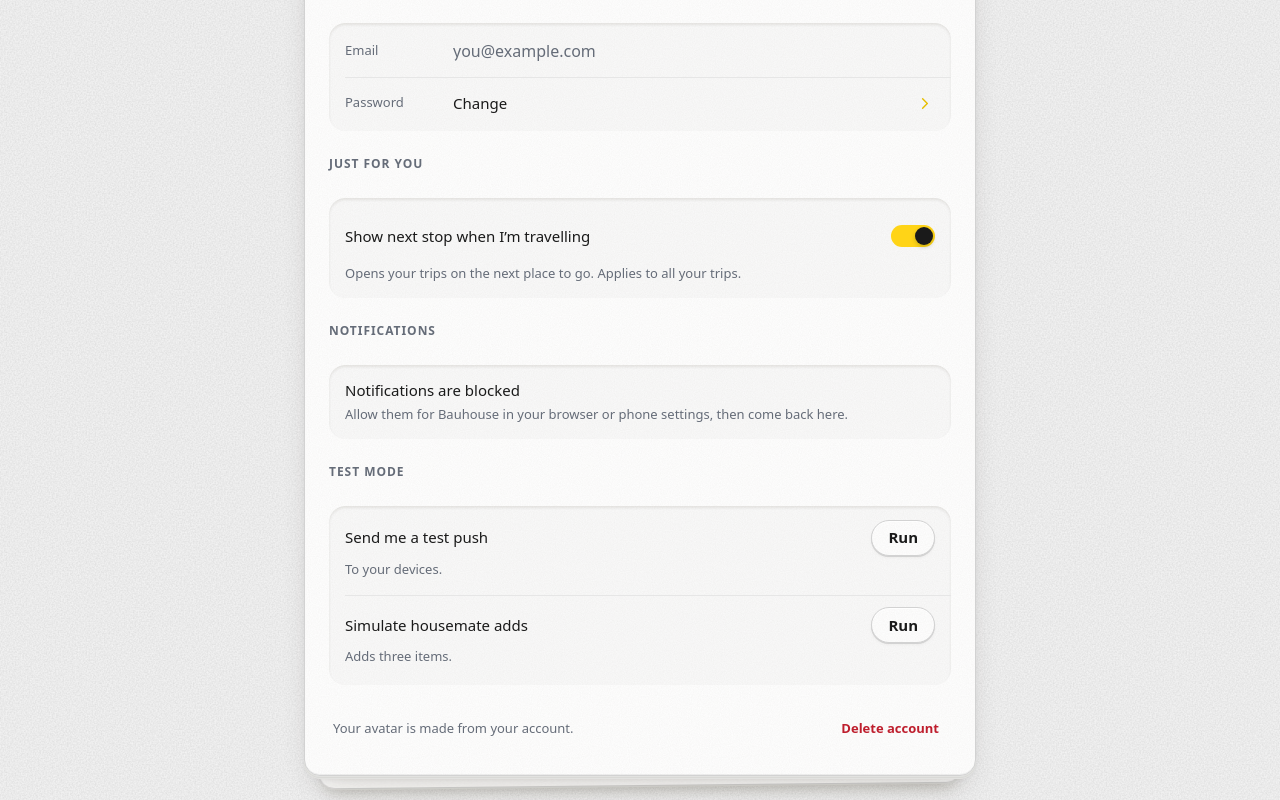
Test case: Test mode panel › shows a refusal as the server worded it
(page scrolled)
Click the button named "Run Simulate housemate adds": (903, 625) [871, 607, 935, 643]
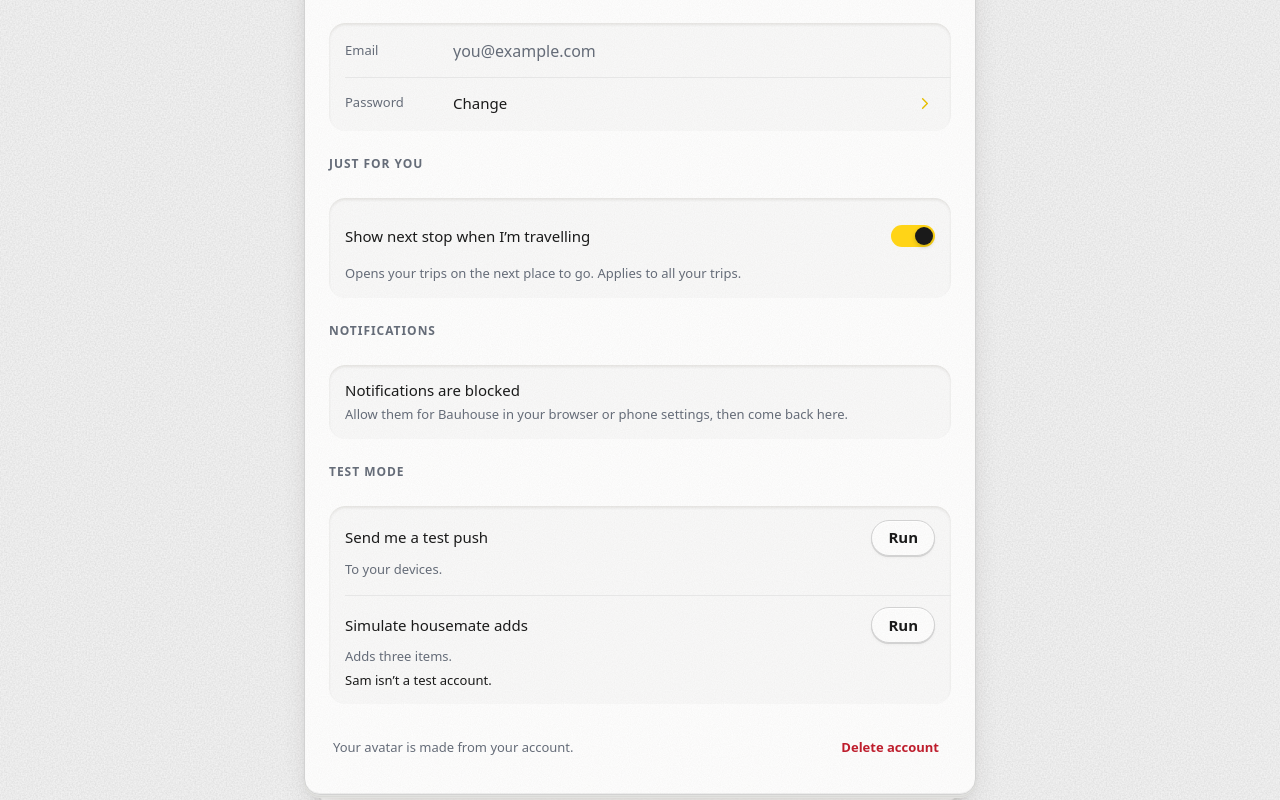
expect the text "Sam isn’t a test account." is shown: met, box [345, 671, 492, 689]
